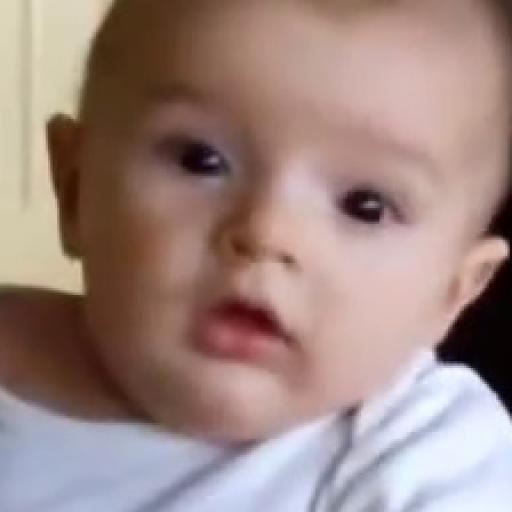Autism: (78, 2, 512, 492)
